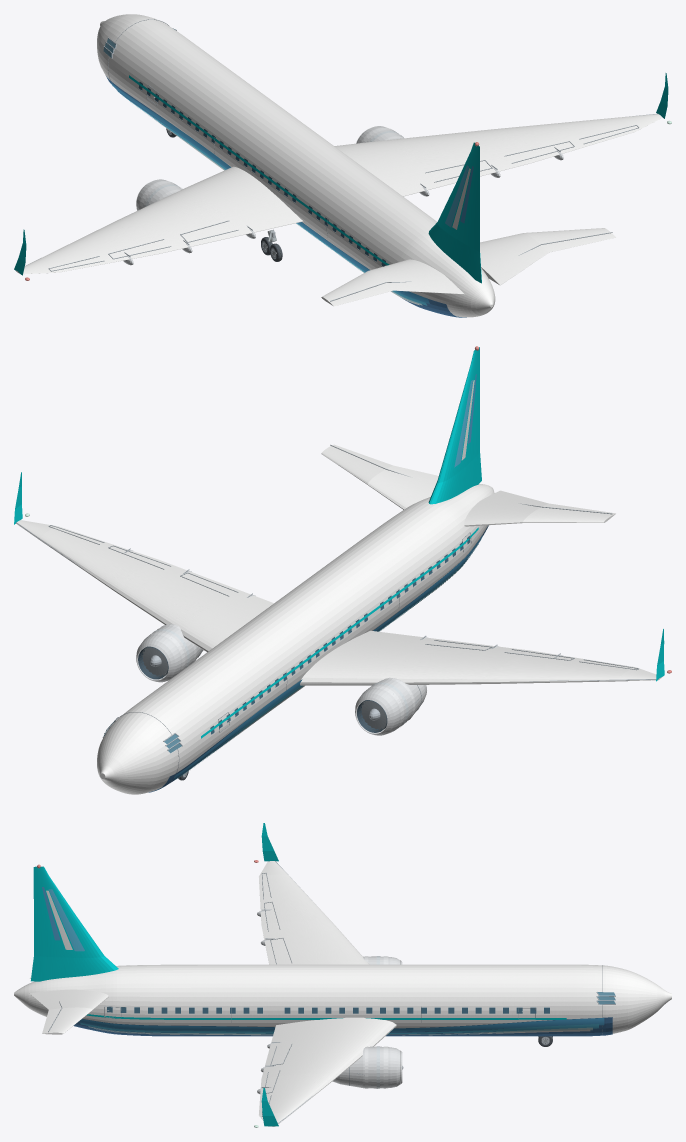
File: a320neo.glb
3 renders of one model, top to bottom at view 1: azimuth 30°, elevation 25°; view 2: azimuth 150°, elevation 25°; view 3: azimuth 270°, elevation 25°, orthographic. The views are drawn at different scales.
Visible parts, largest first — view 1: surface_warmwhite, surface_teal, surface_seam, surface_waveblue, surface_silver, surface_skywave, surface_glass, surface_belly; view 2: surface_warmwhite, surface_teal, surface_silver, surface_seam, surface_waveblue, surface_fan, surface_skywave, surface_glass, surface_aluminium, surface_rimshine; view 3: surface_warmwhite, surface_teal, surface_waveblue, surface_belly, surface_silver, surface_skywave, surface_glass, surface_paintwhite, surface_seam, surface_pinstripe, surface_rimshine.
Part boxes in pixels (box(x1,y1,x2,y2)): surface_warmwhite: box(16, 14, 662, 317); surface_teal: box(14, 73, 668, 283); surface_seam: box(48, 19, 638, 301); surface_waveblue: box(110, 82, 473, 303); surface_silver: box(136, 126, 403, 210); surface_skywave: box(117, 91, 468, 305); surface_glass: box(138, 82, 385, 266); surface_belly: box(106, 76, 466, 317); surface_warmwhite: box(16, 444, 661, 794); surface_teal: box(14, 347, 664, 738); surface_silver: box(136, 624, 426, 735); surface_seam: box(48, 444, 638, 781); surface_waveblue: box(173, 374, 482, 779); surface_fan: box(142, 647, 386, 729); surface_skywave: box(175, 380, 478, 779); surface_glass: box(210, 536, 470, 734); surface_aluminium: box(16, 522, 658, 750); surface_rimshine: box(143, 624, 415, 732); surface_warmwhite: box(14, 861, 671, 1126); surface_teal: box(31, 823, 566, 1126); surface_waveblue: box(42, 887, 604, 1031); surface_belly: box(73, 1017, 612, 1036); surface_silver: box(332, 956, 399, 1088); surface_skywave: box(48, 889, 598, 1033); surface_glass: box(107, 1006, 549, 1013); surface_paintwhite: box(46, 890, 590, 1035); surface_seam: box(48, 873, 602, 1116); surface_pinstripe: box(88, 1026, 592, 1034); surface_rimshine: box(365, 956, 388, 1088).
Size of the model in its own units: 36.03 by 11.33 by 37.57.
26 materials, 26 textured.
